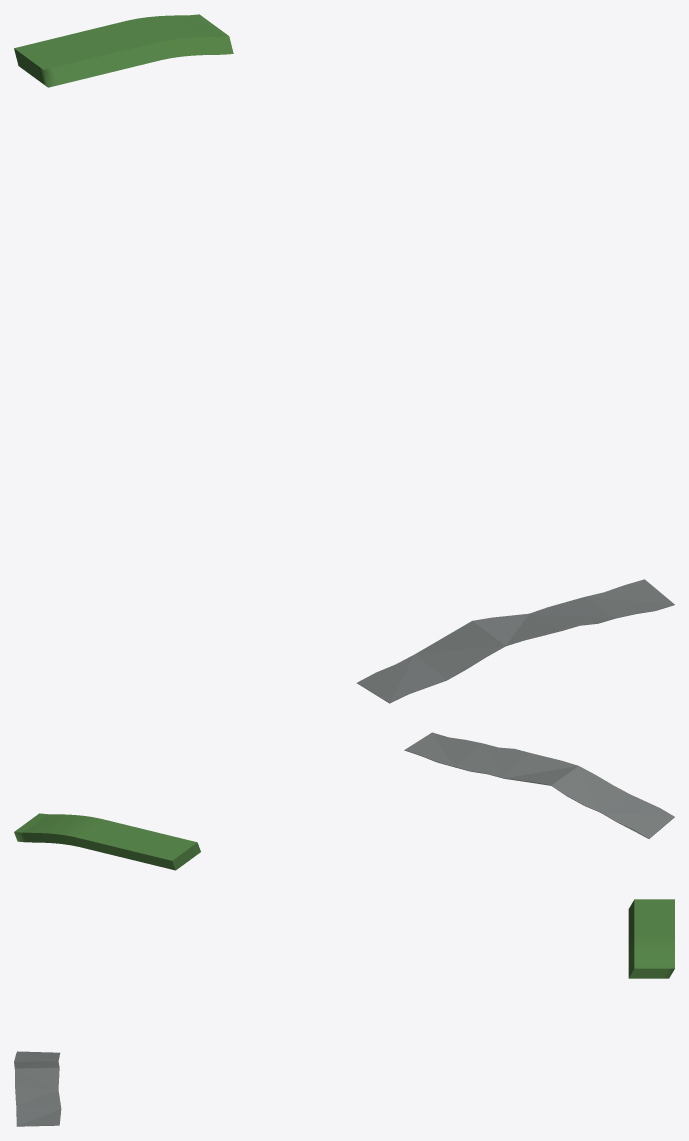
File: Map2_큐브2.fbx
The picture shows the model from 3 angles, top to bottom: view 1: azimuth 30°, elevation 25°; view 2: azimuth 150°, elevation 25°; view 3: azimuth 270°, elevation 25°; orthographic projection. The views are drawn at different scales.
Visible parts, largest first — view 1: 2_동굴_바닥_큐브.003, 1_강과바다_바닥_큐브; view 2: 2_동굴_바닥_큐브.003, 1_강과바다_바닥_큐브; view 3: 1_강과바다_바닥_큐브, 2_동굴_바닥_큐브.003.
Boxes of the visible parts, box(x1,y1,x2,y2) form: 2_동굴_바닥_큐브.003: box(357, 579, 674, 703); 1_강과바다_바닥_큐브: box(14, 14, 233, 87); 2_동굴_바닥_큐브.003: box(404, 732, 674, 838); 1_강과바다_바닥_큐브: box(14, 813, 200, 870); 1_강과바다_바닥_큐브: box(628, 899, 674, 978); 2_동굴_바닥_큐브.003: box(14, 1051, 61, 1126).
Bounding box in the file's own units: 25481 × 8919 × 8070.
